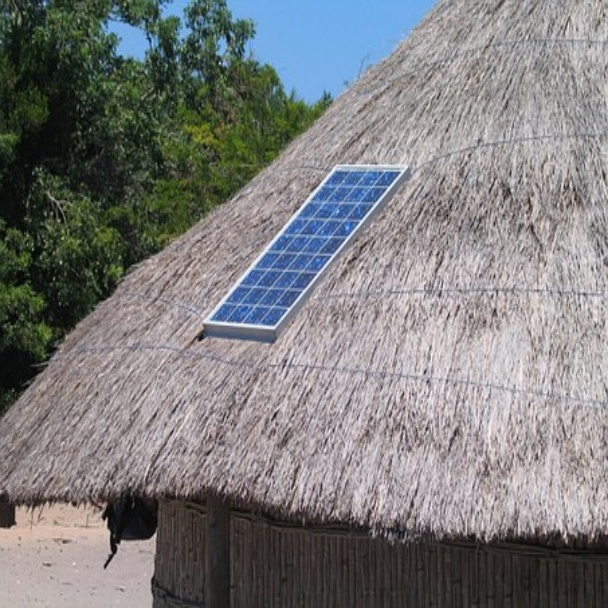solarpanels: (197, 160, 400, 345)
